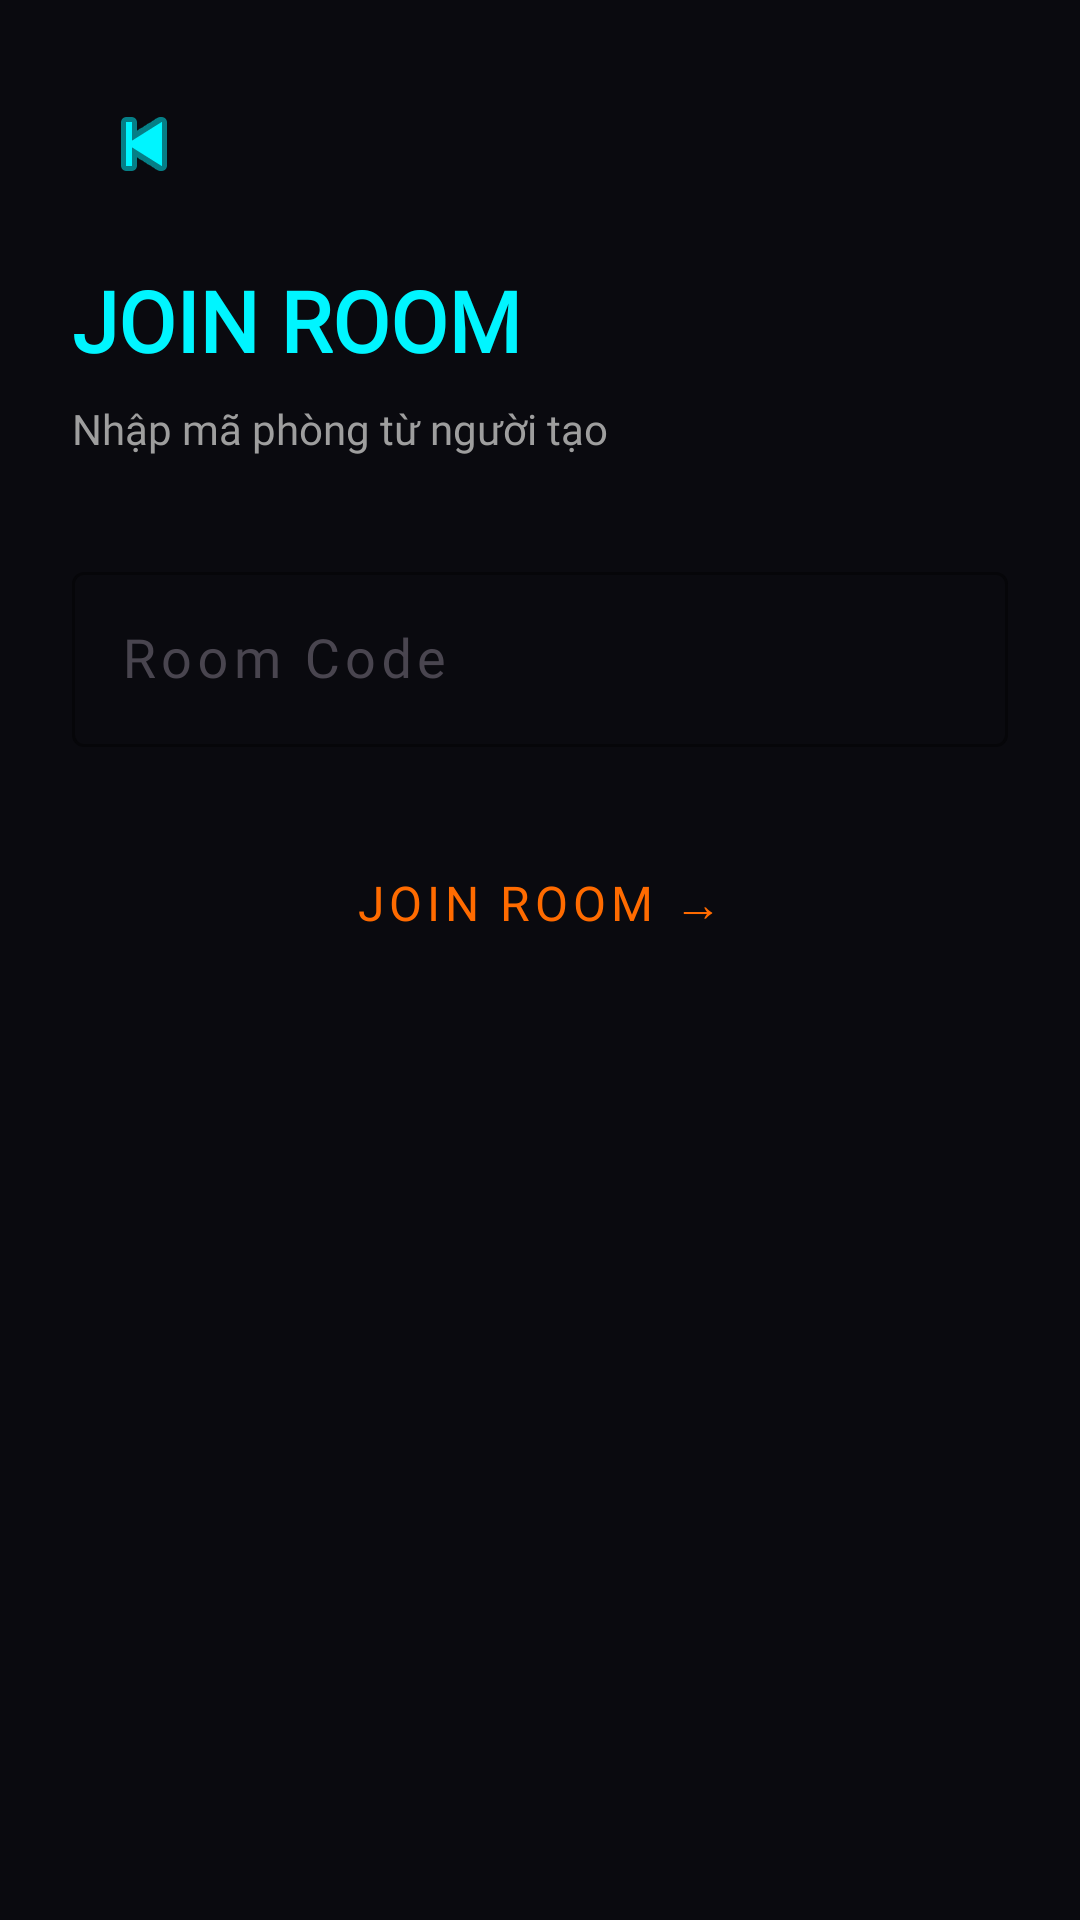

Icons on this 1080px×1920px Android screen, each with the point to tap as (x,y):
Back: (144,144)
